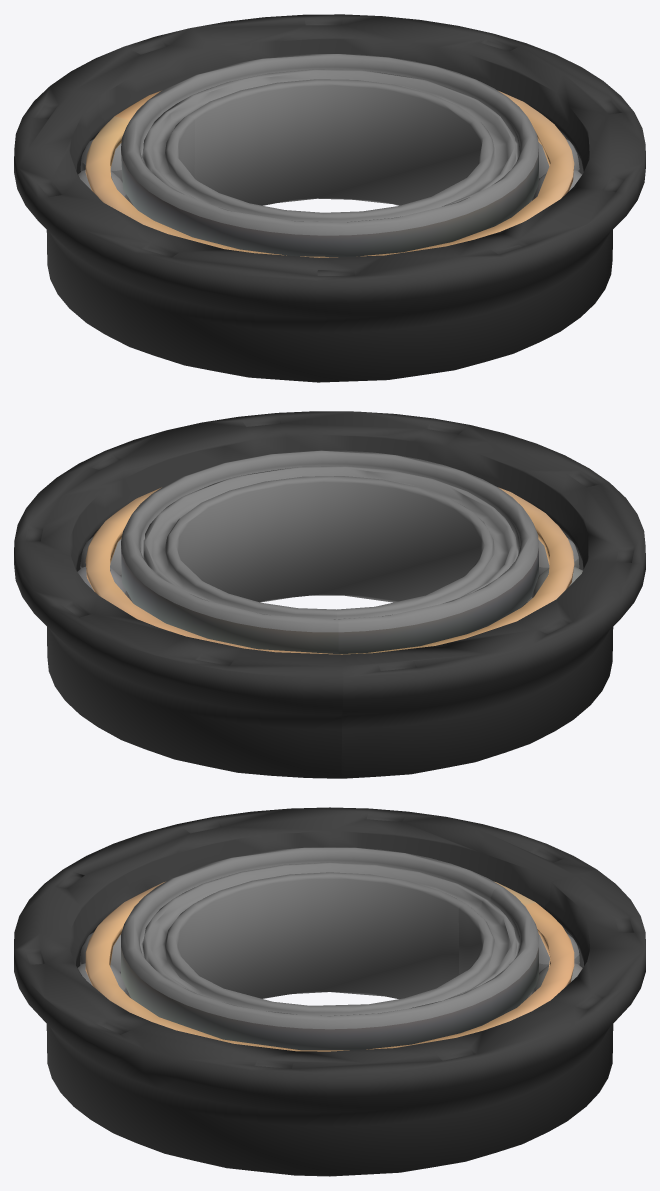
The model's file is consumable_bearing_ball_b01.glb.
The picture shows the model from 3 angles, top to bottom: view 1: azimuth 30°, elevation 25°; view 2: azimuth 150°, elevation 25°; view 3: azimuth 270°, elevation 25°; orthographic projection.
Parts seen in each view (by area): view 1: part0; view 2: part0; view 3: part0.
Part boxes in pixels (left/top/right/bottom): part0: left=14, top=14, right=645, bottom=382; part0: left=14, top=411, right=645, bottom=778; part0: left=14, top=807, right=645, bottom=1176.
Bounding box in the file's own units: 0.0344 × 0.00759 × 0.0343.
Materials: 1 (1 with a texture image).
